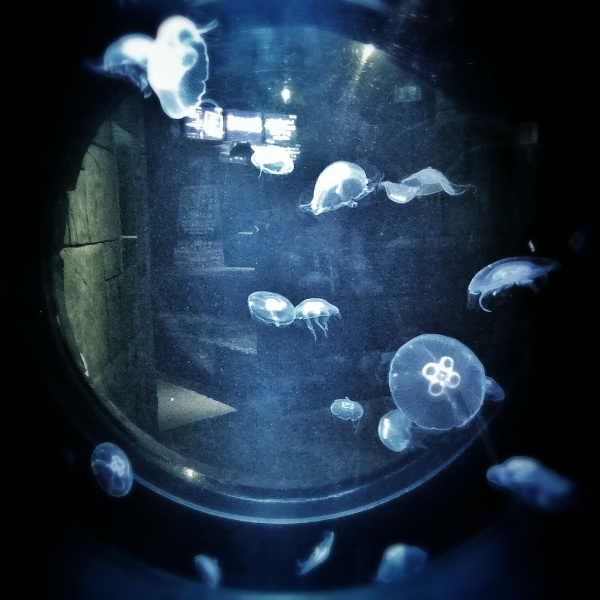Jellyfish: (385, 330, 488, 429), (144, 13, 212, 121), (465, 262, 547, 313), (96, 36, 159, 102), (482, 456, 565, 506), (302, 160, 377, 213), (89, 439, 135, 501), (244, 288, 298, 330), (404, 164, 468, 196), (297, 529, 338, 578), (379, 404, 420, 451), (248, 143, 302, 178), (293, 296, 338, 337), (375, 543, 420, 584), (189, 555, 226, 587), (330, 394, 363, 426), (380, 180, 420, 203)
